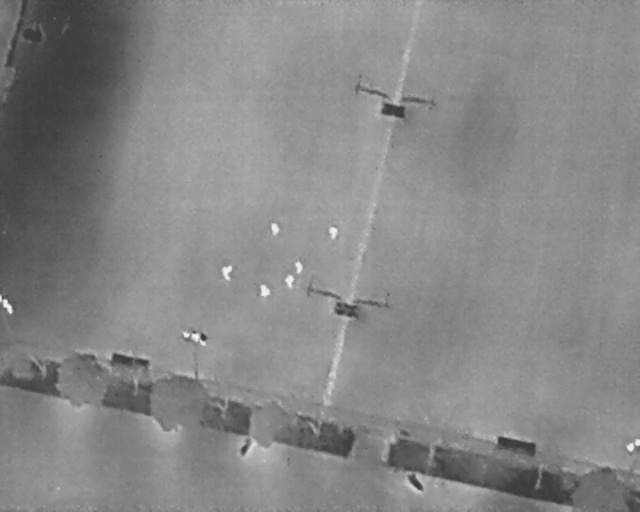Person: (222, 264, 233, 281), (329, 225, 338, 241), (270, 222, 280, 236), (285, 274, 294, 289), (260, 285, 271, 297), (295, 260, 303, 274)
